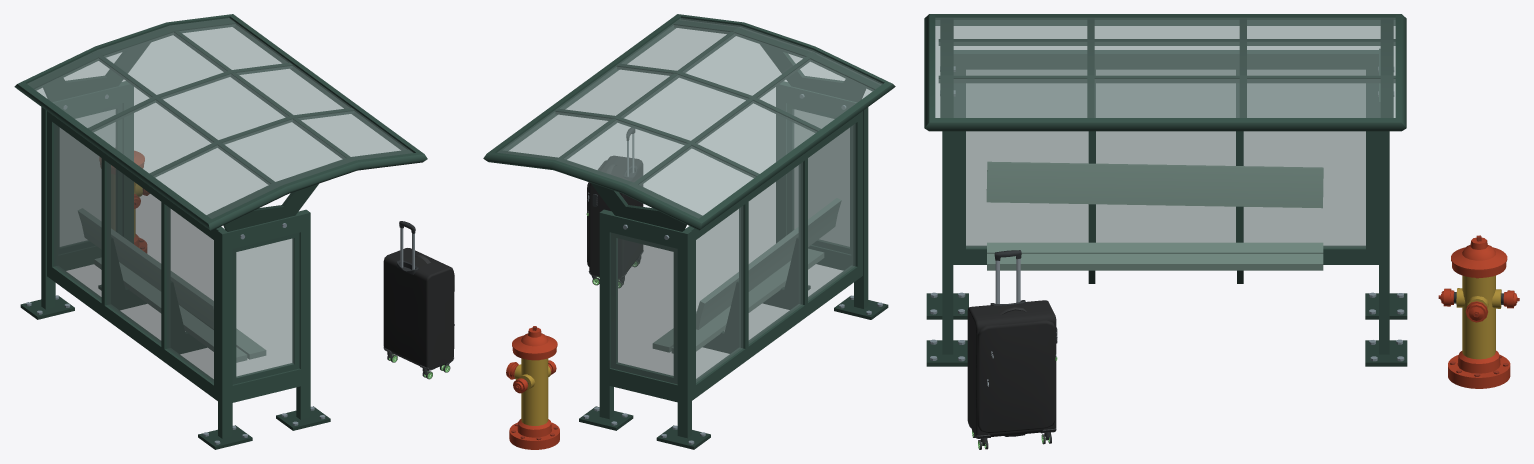
The picture shows the model from 3 angles, left to right: view 1: azimuth 30°, elevation 25°; view 2: azimuth 150°, elevation 25°; view 3: azimuth 270°, elevation 25°; orthographic projection. The views are drawn at different scales.
Visible parts, largest first — view 1: bus_station_lp2, luggage_lp2, hydrant_lp2; view 2: bus_station_lp2, hydrant_lp2, luggage_lp2; view 3: bus_station_lp2, luggage_lp2, hydrant_lp2.
Part boxes in pixels (<box>): bus_station_lp2: <box>14,14,427,449</box>; luggage_lp2: <box>383,221,454,379</box>; hydrant_lp2: <box>100,151,149,252</box>; bus_station_lp2: <box>483,14,895,449</box>; hydrant_lp2: <box>506,326,559,449</box>; luggage_lp2: <box>586,127,643,287</box>; bus_station_lp2: <box>924,14,1407,366</box>; luggage_lp2: <box>967,250,1057,449</box>; hydrant_lp2: <box>1438,235,1519,388</box>.
Bounding box in the file's own units: 15.65 × 14.01 × 24.3.
